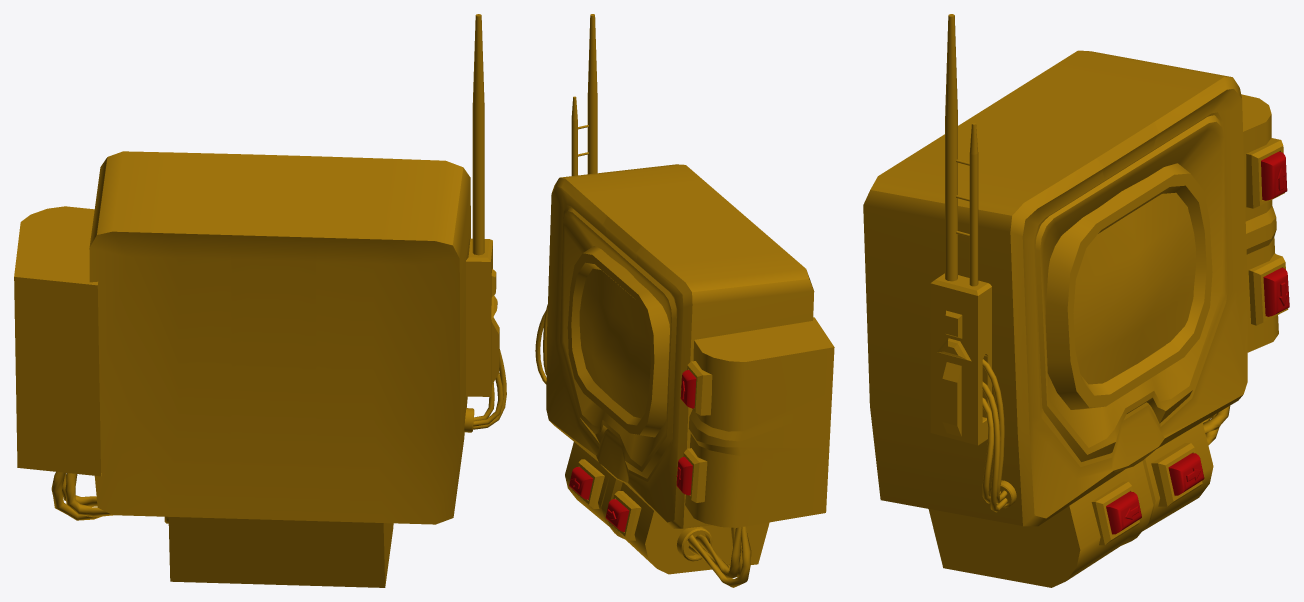
File: FrequencyScanner_Model.fbx
3 renders of one model, left to right at view 1: azimuth 30°, elevation 25°; view 2: azimuth 150°, elevation 25°; view 3: azimuth 270°, elevation 25°, orthographic. The views are drawn at different scales.
Visible parts, largest first — view 1: FrequencyScannerBase_Geo; view 2: FrequencyScannerBase_Geo, FrequencyScannerGlass_Geo, FrequencyLeftButton_Scanner_Geo, FrequencyRightButton_Scanner_Geo, AmplitudeDown_Scanner_Geo, AmplitudeUp_Scanner_Geo; view 3: FrequencyScannerBase_Geo, FrequencyScannerGlass_Geo, AmplitudeUp_Scanner_Geo, AmplitudeDown_Scanner_Geo, FrequencyLeftButton_Scanner_Geo, FrequencyRightButton_Scanner_Geo.
Boxes of the visible parts, bbox=[...] form: FrequencyScannerBase_Geo: bbox=[14, 14, 506, 587]; FrequencyScannerBase_Geo: bbox=[535, 14, 834, 587]; FrequencyScannerGlass_Geo: bbox=[579, 268, 650, 418]; FrequencyLeftButton_Scanner_Geo: bbox=[569, 467, 593, 499]; FrequencyRightButton_Scanner_Geo: bbox=[605, 499, 629, 531]; AmplitudeDown_Scanner_Geo: bbox=[676, 457, 692, 495]; AmplitudeUp_Scanner_Geo: bbox=[680, 370, 696, 408]; FrequencyScannerBase_Geo: bbox=[863, 14, 1288, 587]; FrequencyScannerGlass_Geo: bbox=[1073, 192, 1195, 384]; AmplitudeUp_Scanner_Geo: bbox=[1261, 151, 1287, 200]; AmplitudeDown_Scanner_Geo: bbox=[1263, 267, 1289, 316]; FrequencyLeftButton_Scanner_Geo: bbox=[1106, 491, 1141, 534]; FrequencyRightButton_Scanner_Geo: bbox=[1168, 453, 1204, 495].
Bounding box in the file's own units: 106 × 131 × 83.53.
